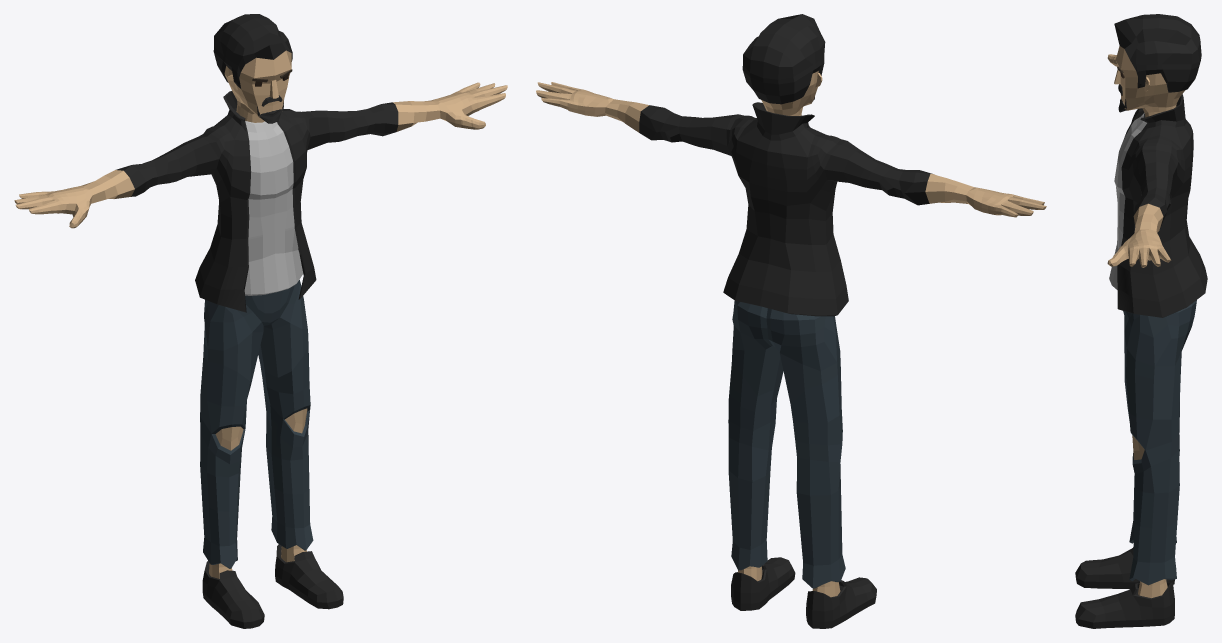
The model's file is NEURODIVE.fbx.
The picture shows the model from 3 angles, left to right: view 1: azimuth 30°, elevation 25°; view 2: azimuth 150°, elevation 25°; view 3: azimuth 270°, elevation 25°; orthographic projection. The views are drawn at different scales.
Parts seen in each view (by area): view 1: Punk_Body, Punk_Legs, Punk_Head, Punk_Feet; view 2: Punk_Body, Punk_Legs, Punk_Head, Punk_Feet; view 3: Punk_Body, Punk_Legs, Punk_Head, Punk_Feet.
Part boxes in pixels (x1,y1,x2,y2): Punk_Body: (14, 82, 507, 312); Punk_Legs: (200, 280, 313, 568); Punk_Head: (213, 14, 292, 123); Punk_Feet: (202, 544, 343, 628); Punk_Body: (536, 82, 1046, 316); Punk_Legs: (728, 300, 845, 588); Punk_Head: (742, 14, 825, 115); Punk_Feet: (731, 557, 876, 628); Punk_Body: (1107, 54, 1207, 317); Punk_Legs: (1123, 300, 1196, 585); Punk_Head: (1114, 14, 1201, 117); Punk_Feet: (1075, 547, 1174, 628).
Size of the model in its own units: 168 by 186 by 38.15.
